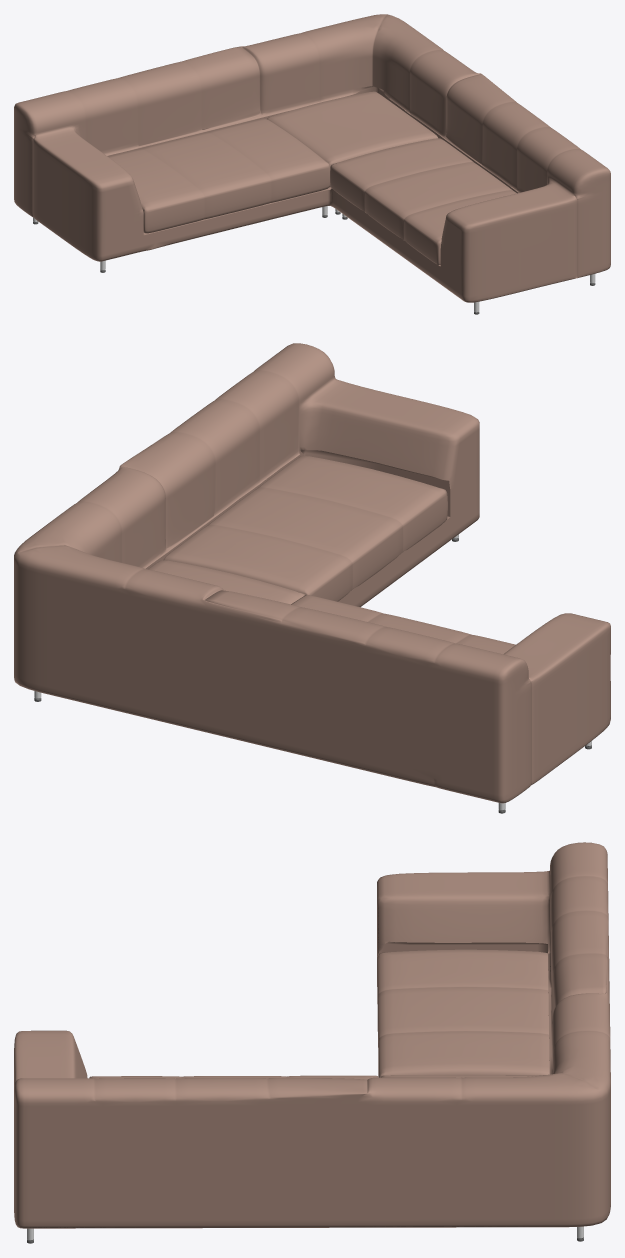
Rendered from chocolate_sofa.fbx.
3 renders of one model, top to bottom at view 1: azimuth 30°, elevation 25°; view 2: azimuth 150°, elevation 25°; view 3: azimuth 270°, elevation 25°, orthographic. The views are drawn at different scales.
Visible parts, largest first — view 1: IKEA_Kramfors_2_Seat_Corner_Sofa_3D:Rectangle01, IKEA_Kramfors_2_Seat_Corner_Sofa_3D:Object01, IKEA_Kramfors_2_Seat_Corner_Sofa_3D:Object02, IKEA_Kramfors_2_Seat_Corner_Sofa_3D:Object03; view 2: IKEA_Kramfors_2_Seat_Corner_Sofa_3D:Rectangle01, IKEA_Kramfors_2_Seat_Corner_Sofa_3D:Object02, IKEA_Kramfors_2_Seat_Corner_Sofa_3D:Object01, IKEA_Kramfors_2_Seat_Corner_Sofa_3D:Object03; view 3: IKEA_Kramfors_2_Seat_Corner_Sofa_3D:Rectangle01, IKEA_Kramfors_2_Seat_Corner_Sofa_3D:Object01, IKEA_Kramfors_2_Seat_Corner_Sofa_3D:Object02.
Part boxes in pixels (x1,y1,x2,y2): IKEA_Kramfors_2_Seat_Corner_Sofa_3D:Rectangle01: (14, 14, 610, 302); IKEA_Kramfors_2_Seat_Corner_Sofa_3D:Object01: (108, 118, 330, 233); IKEA_Kramfors_2_Seat_Corner_Sofa_3D:Object02: (330, 138, 516, 264); IKEA_Kramfors_2_Seat_Corner_Sofa_3D:Object03: (267, 91, 437, 187); IKEA_Kramfors_2_Seat_Corner_Sofa_3D:Rectangle01: (14, 343, 610, 803); IKEA_Kramfors_2_Seat_Corner_Sofa_3D:Object02: (163, 456, 447, 601); IKEA_Kramfors_2_Seat_Corner_Sofa_3D:Object01: (291, 594, 515, 654); IKEA_Kramfors_2_Seat_Corner_Sofa_3D:Object03: (148, 560, 304, 604); IKEA_Kramfors_2_Seat_Corner_Sofa_3D:Rectangle01: (14, 842, 610, 1228); IKEA_Kramfors_2_Seat_Corner_Sofa_3D:Object01: (377, 949, 549, 1077); IKEA_Kramfors_2_Seat_Corner_Sofa_3D:Object02: (89, 1075, 378, 1079).
Bounding box in the file's own units: 251 × 73.95 × 251.
